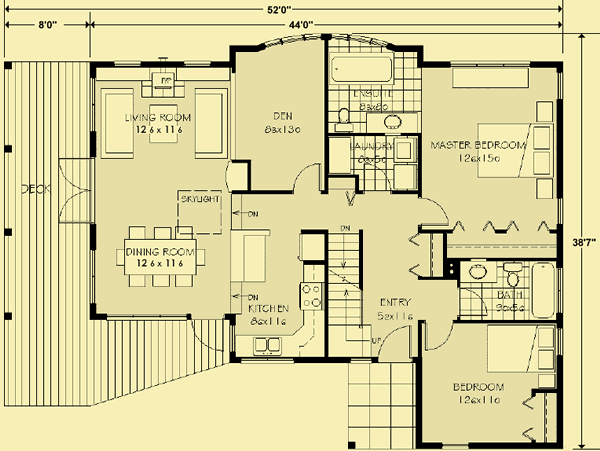bathroom has a tub, small and large sinks: (453, 256, 563, 325)
bedroom is having a double bed: (417, 323, 563, 447)
kitchen is with breakfast counter, having cooking range and twin sink: (228, 224, 329, 364)
laundry room has a washer and dryer: (324, 131, 429, 202)
master bathroom has a tub, small and large sink: (322, 30, 431, 133)
master bedroom has a double bed and bedside stools: (430, 61, 566, 236)
stairs to the other floors: (325, 222, 388, 366)
this is a dining room with dining table and other facilities: (90, 200, 237, 322)
this livingroom has large sofas, coffee tables: (85, 57, 236, 193)
